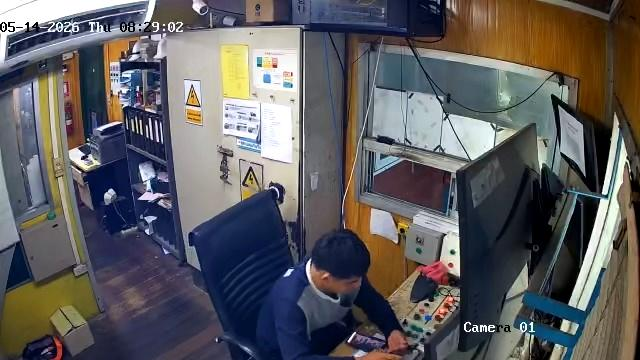Head: (313, 230, 368, 296)
People: (256, 229, 409, 360)
Phone: (345, 331, 388, 352), (390, 344, 417, 355)
